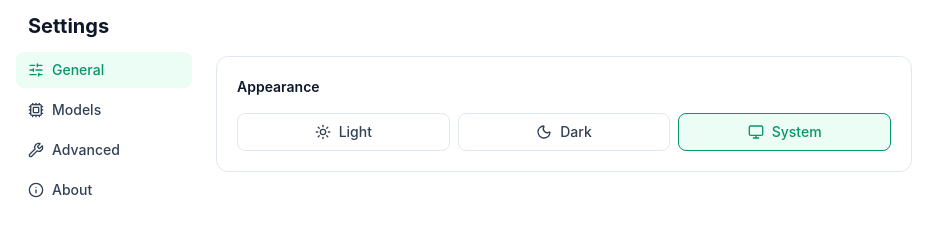
Scenario: Settings sections › Models tab › shows the catalog-unavailable banner on error
The image size is (929, 231).
Step 1. Click the button "Models" → (104, 110), box [16,92,192,128]
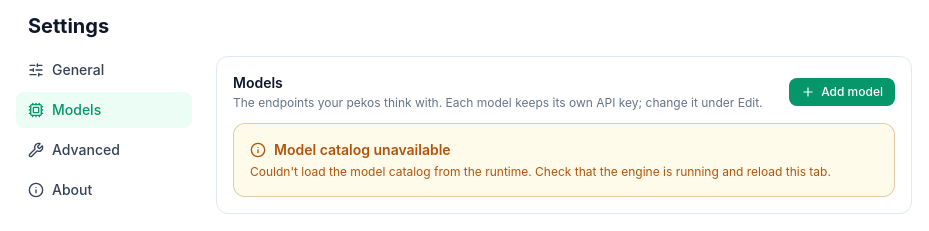
expect the element with test id "models-catalog-unavailable" is shown: met, box [233,123,895,197]
